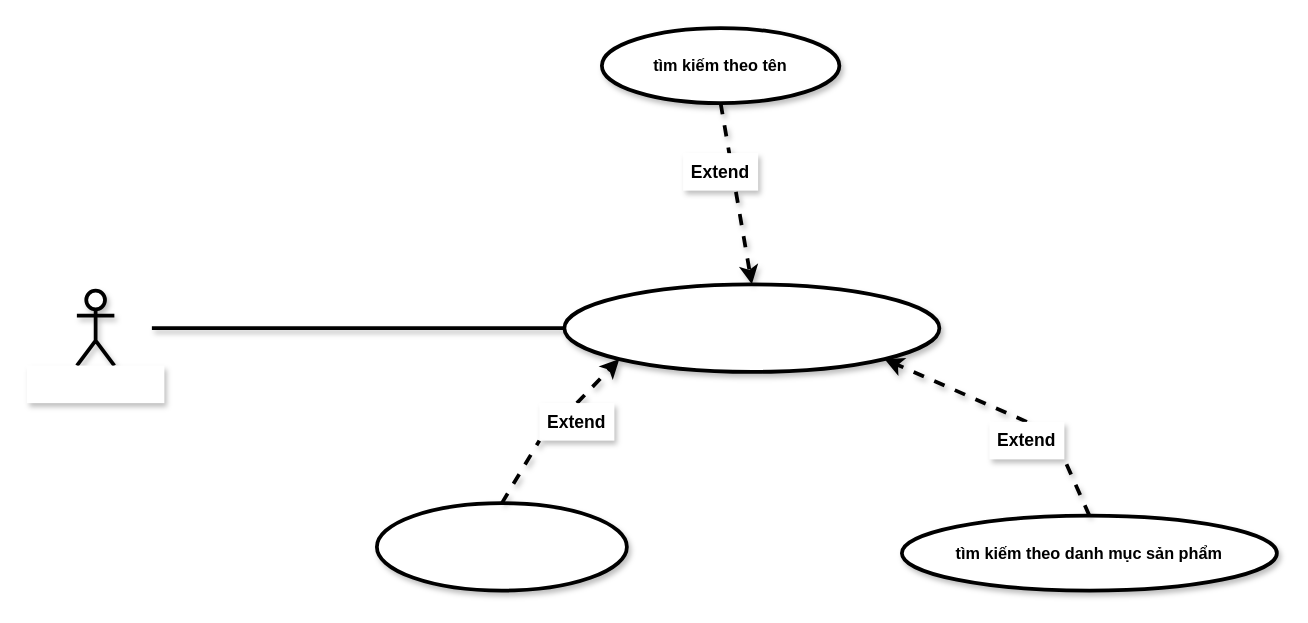
Image size: 1308x623. Some labels were removed from this diagram. Here are the shapes that lost their labels. From the top down, the centre of each, then its label:
At [752,329]: "tìm kiếm công thức".
At [96,385]: "khách hàng".
At [502,548]: "tìm kiếm theo giá".
